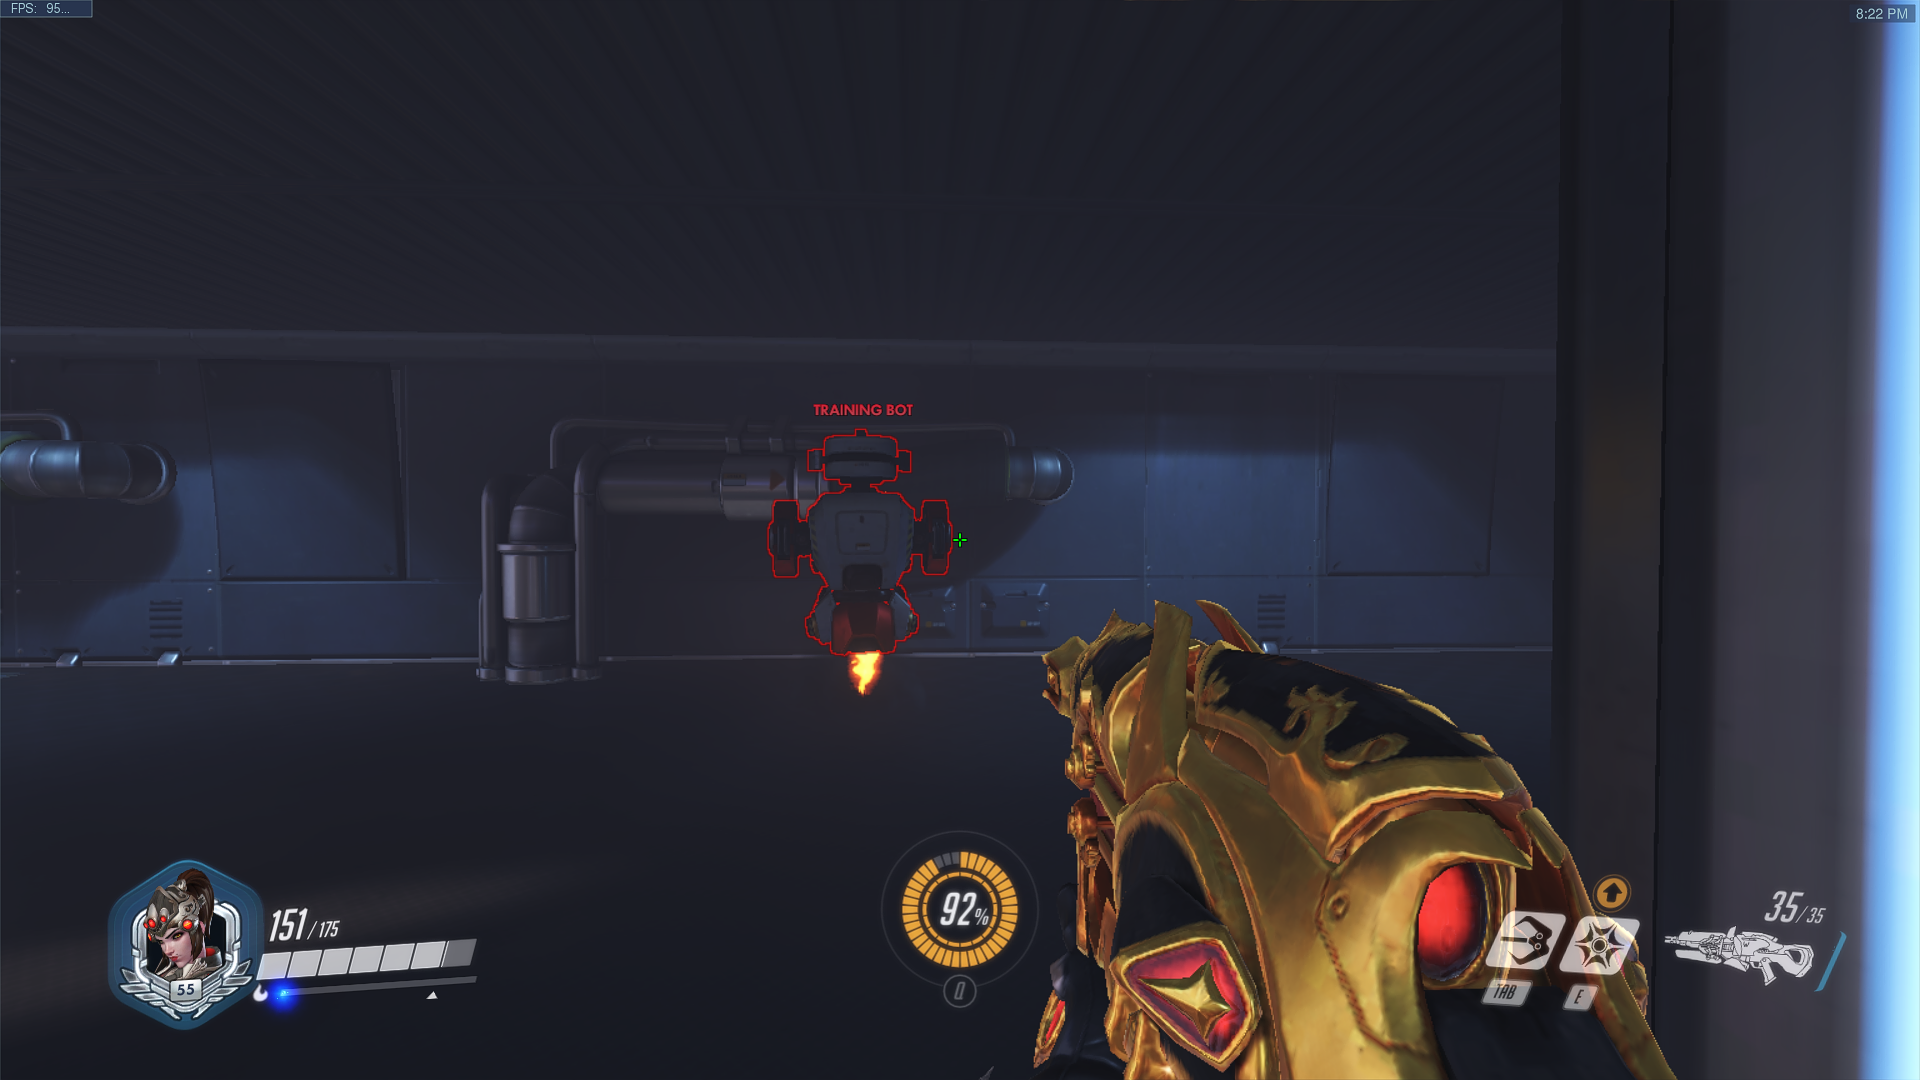head: (824, 434, 888, 486)
